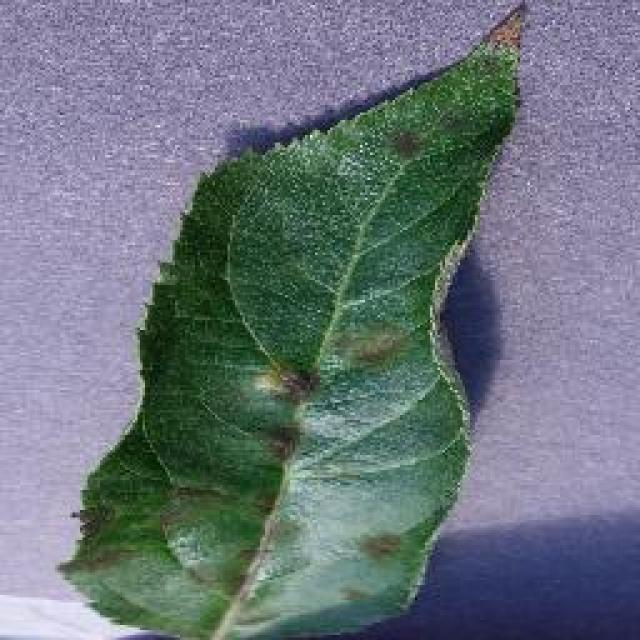apple scab disease: (55, 0, 527, 638)
